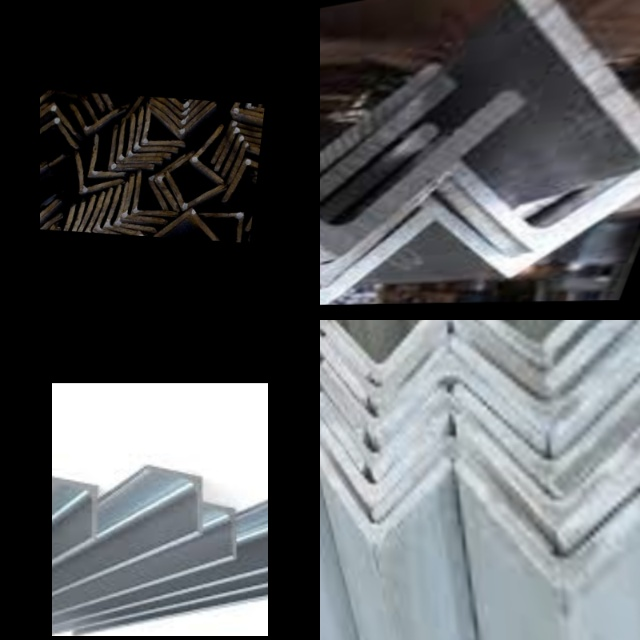Angle: (320, 85, 512, 244), (467, 466, 640, 606), (498, 0, 640, 161), (460, 376, 640, 486), (375, 440, 548, 546), (449, 152, 640, 246), (320, 59, 446, 200), (425, 191, 638, 271), (320, 26, 430, 177), (454, 329, 640, 409), (320, 451, 449, 552), (379, 368, 537, 447), (322, 424, 445, 505), (320, 209, 417, 301), (330, 323, 450, 397), (320, 185, 419, 274), (554, 326, 640, 421), (566, 442, 640, 551), (336, 320, 444, 369), (551, 320, 640, 379), (149, 467, 199, 528), (320, 437, 359, 514), (320, 320, 366, 380), (320, 335, 361, 397), (52, 476, 94, 534), (320, 364, 359, 423), (156, 210, 228, 241), (151, 101, 213, 135), (147, 154, 182, 209), (155, 153, 190, 207), (192, 128, 227, 182), (214, 123, 263, 161), (133, 173, 177, 215), (126, 178, 168, 221), (217, 129, 262, 169), (136, 110, 181, 150), (550, 320, 640, 340), (73, 157, 122, 193), (128, 117, 173, 156), (166, 176, 219, 208), (120, 122, 164, 160), (117, 188, 156, 230), (112, 129, 154, 168), (95, 190, 131, 235), (90, 136, 129, 175), (87, 194, 125, 234), (151, 98, 205, 125), (68, 103, 122, 130), (224, 136, 261, 175), (79, 198, 119, 234), (68, 201, 111, 234), (108, 187, 137, 233), (145, 113, 185, 144), (206, 506, 233, 551), (202, 213, 243, 242), (230, 142, 261, 180), (61, 207, 102, 233), (40, 120, 76, 144), (40, 104, 71, 131)
